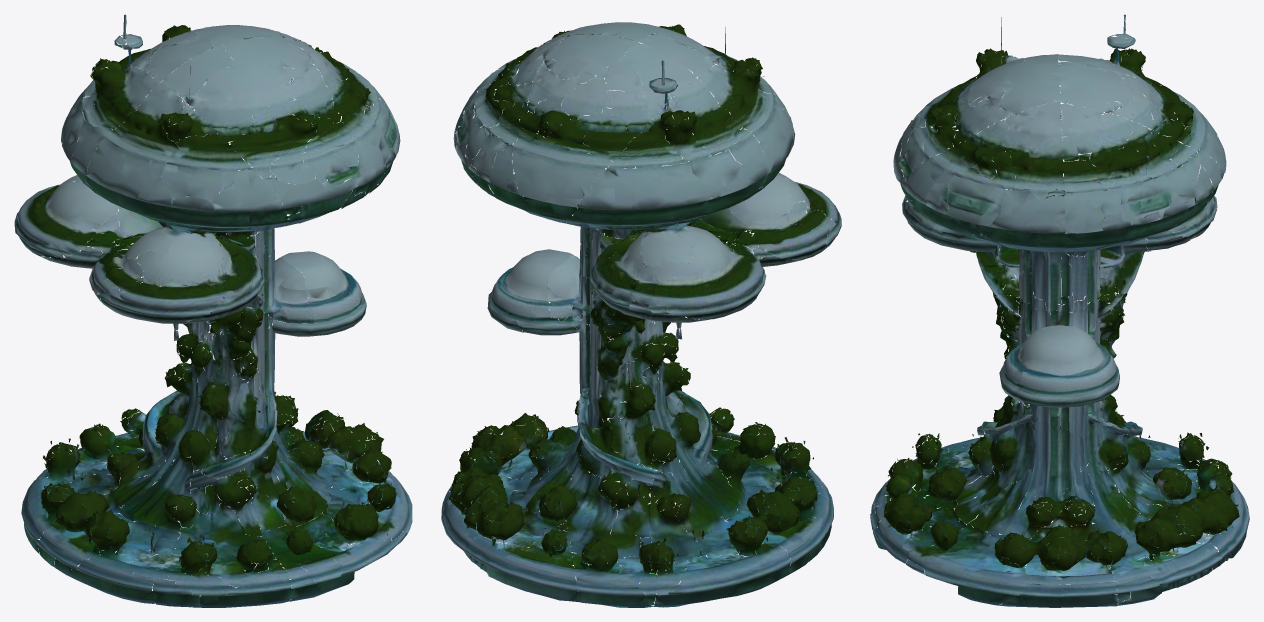
File: district-tower.glb
3 views of the same model, side by side, from view 1: azimuth 30°, elevation 25°; view 2: azimuth 150°, elevation 25°; view 3: azimuth 270°, elevation 25° (orthographic). The views are drawn at different scales.
Visible parts, largest first — view 1: tripo_node_6da1bb12-1ca9-4229-990c-e5e25ac33e31; view 2: tripo_node_6da1bb12-1ca9-4229-990c-e5e25ac33e31; view 3: tripo_node_6da1bb12-1ca9-4229-990c-e5e25ac33e31.
Part boxes in pixels (bbox=[...]): tripo_node_6da1bb12-1ca9-4229-990c-e5e25ac33e31: bbox=[14, 14, 412, 607]; tripo_node_6da1bb12-1ca9-4229-990c-e5e25ac33e31: bbox=[441, 22, 841, 607]; tripo_node_6da1bb12-1ca9-4229-990c-e5e25ac33e31: bbox=[870, 14, 1249, 607].
Size of the model in its own units: 0.6992 by 1 by 0.7002.
Materials: 1 (1 with a texture image).
